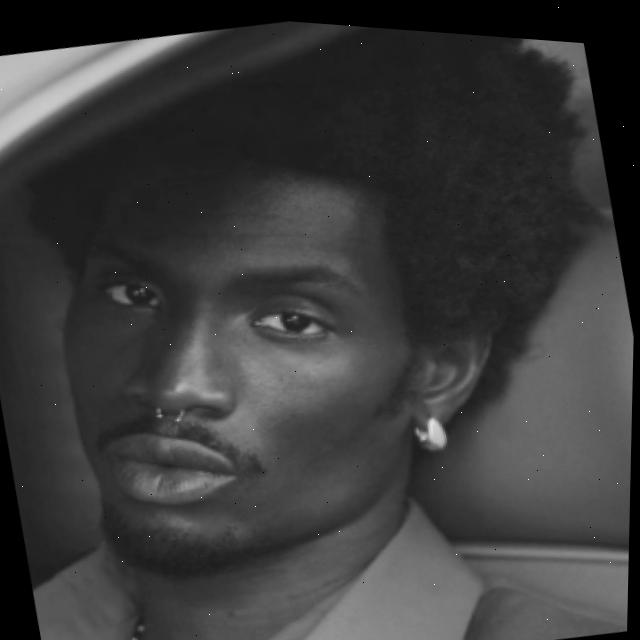natural: (0, 31, 535, 636)
